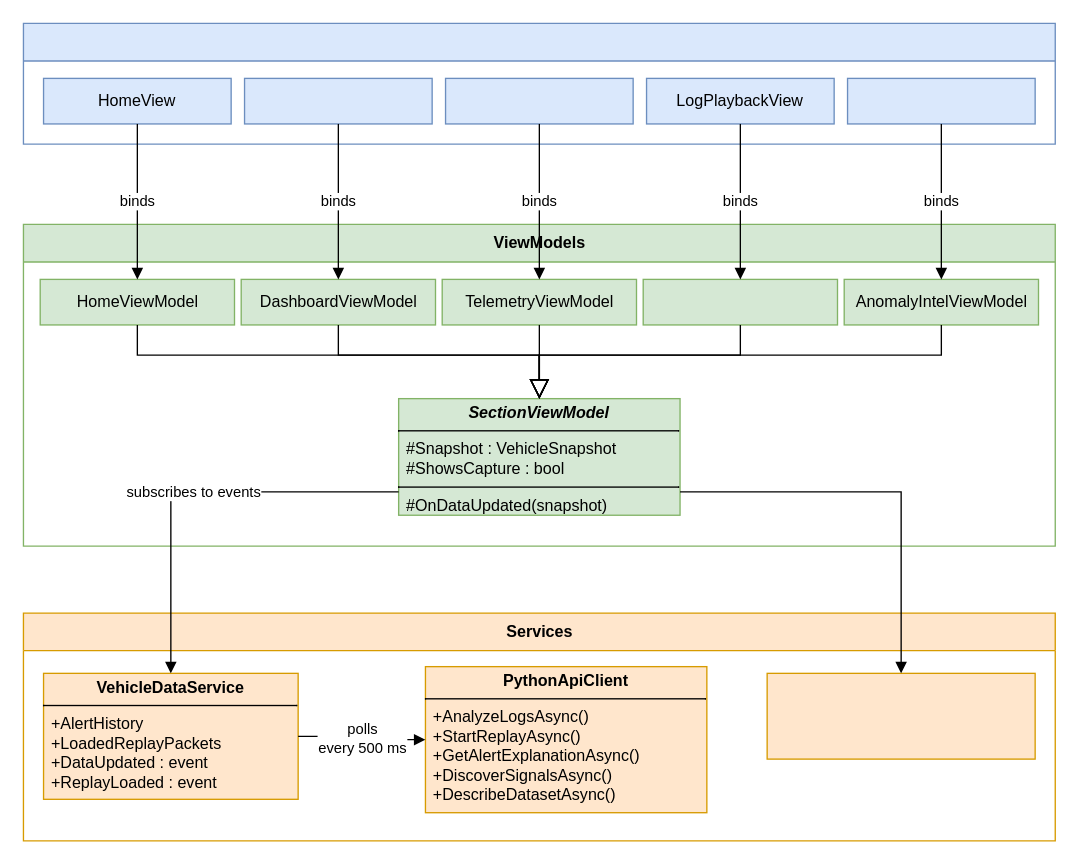
This 1079x864 diagram has some shape labels left out. Here are the shapes that lost their labels. From the top down, the box of each, then its label:
(243, 77, 432, 124): DashboardView
(22, 22, 1055, 144): Views (XAML)
(444, 77, 633, 124): TelemetryView
(846, 77, 1035, 124): AnomalyIntelView
(642, 278, 838, 325): LogPlaybackViewModel
(766, 672, 1035, 759): ModelSelectionService +SelectedModel +SelectionChanged : event
